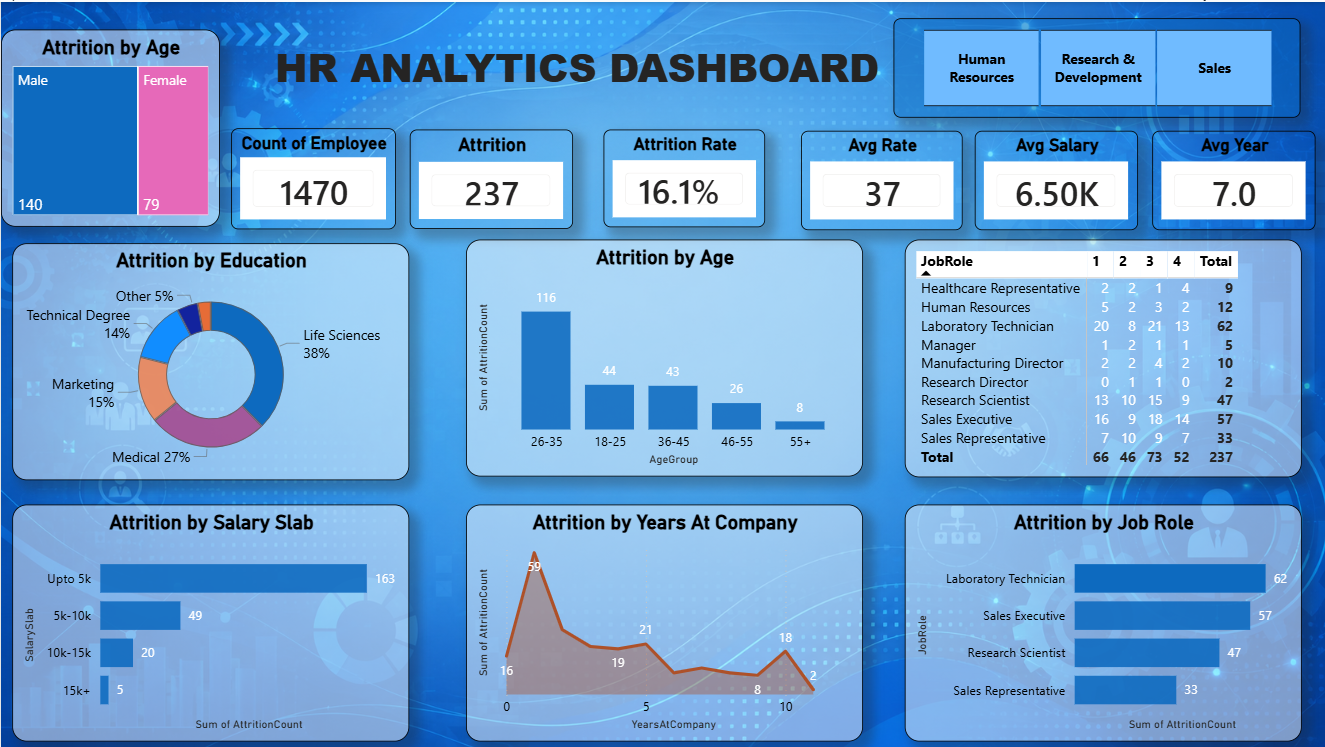

The page's visual inventory and layout, read from the dashboard file:
{"tool":"powerbi","page":{"name":"Page 1","canvas":[1280,720],"ordinal":0},"visuals":[{"type":"cardVisual","title":"Count of Employee","fields":{"Data":["CountNonNull(HR_Analytics.EmpID)"]},"box":[212.3,121.9,171.3,97.7],"z":0},{"type":"cardVisual","title":"Attrition Rate","fields":{"Data":["HR_Analytics.AttritionRate"]},"box":[582.7,121.9,156.8,94.1],"z":1000},{"type":"cardVisual","title":"Avg Rate","fields":{"Data":["Avg(HR_Analytics.Age)"]},"box":[761.3,123.1,155.6,95.3],"z":2000},{"type":"cardVisual","title":"Attrition","fields":{"Data":["Sum(HR_Analytics.AttritionCount)"]},"box":[398.1,121.9,158,95.3],"z":3000},{"type":"cardVisual","title":"Avg Salary","fields":{"Data":["Avg(HR_Analytics.MonthlyIncome)"]},"box":[939.4,123.9,157.7,95.8],"z":4000},{"type":"cardVisual","title":"Avg Year","fields":{"Data":["Avg(HR_Analytics.YearsAtCompany)"]},"box":[1111.3,123.9,157.7,95.8],"z":5000},{"type":"donutChart","title":" Attrition by Education","fields":{"Category":["HR_Analytics.EducationField"],"Y":["Sum(HR_Analytics.AttritionCount)"]},"box":[11.3,232.4,383,229],"z":6000},{"type":"columnChart","title":" Attrition by Age","fields":{"Category":["HR_Analytics.AgeGroup"],"Y":["Sum(HR_Analytics.AttritionCount)"]},"box":[449.3,229.6,383,229],"z":7000},{"type":"pivotTable","fields":{"Rows":["HR_Analytics.JobRole"],"Columns":["HR_Analytics.JobSatisfaction"],"Values":["Sum(HR_Analytics.AttritionCount)"]},"box":[871.8,229.6,383,229.6],"z":8000},{"type":"barChart","title":" Attrition by Salary Slab","fields":{"Category":["HR_Analytics.SalarySlab"],"Y":["Sum(HR_Analytics.AttritionCount)"]},"box":[11.3,484.5,383.1,229],"z":9000},{"type":"barChart","title":" Attrition by Job Role","fields":{"Category":["HR_Analytics.JobRole"],"Y":["Sum(HR_Analytics.AttritionCount)"]},"box":[871.8,484.5,383,229],"z":10000},{"type":"areaChart","title":" Attrition by Years At Company","fields":{"Category":["HR_Analytics.YearsAtCompany"],"Y":["Sum(HR_Analytics.AttritionCount)"]},"box":[449.3,484.5,383,229],"z":11000},{"type":"treemap","title":" Attrition by Age","fields":{"Group":["HR_Analytics.Gender"],"Values":["Sum(HR_Analytics.AttritionCount)"]},"box":[0,26.5,202.7,190.6],"z":12000},{"type":"slicer","fields":{"Values":["HR_Analytics.Department"]},"box":[862,15.5,393,95.8],"z":13000},{"type":"textbox","box":[183.1,31,745.1,80.3],"z":14000}]}

Visuals, with their boxes in screenshot pixels (x1, y1, x2, y2), scaled from the page's 1280x720 canvas onto the 1325x747 screenshot:
"Count of Employee" cardVisual: 220/126/397/228
"Attrition Rate" cardVisual: 603/126/765/224
"Avg Rate" cardVisual: 788/128/949/227
"Attrition" cardVisual: 412/126/576/225
"Avg Salary" cardVisual: 972/129/1136/228
"Avg Year" cardVisual: 1150/129/1314/228
" Attrition by Education" donutChart: 12/241/408/479
" Attrition by Age" columnChart: 465/238/862/476
pivotTable - HR_Analytics.JobRole x HR_Analytics.JobSatisfaction: 902/238/1299/476
" Attrition by Salary Slab" barChart: 12/503/408/740
" Attrition by Job Role" barChart: 902/503/1299/740
" Attrition by Years At Company" areaChart: 465/503/862/740
" Attrition by Age" treemap: 0/27/210/225
slicer - HR_Analytics.Department: 892/16/1299/115
textbox: 190/32/961/115
